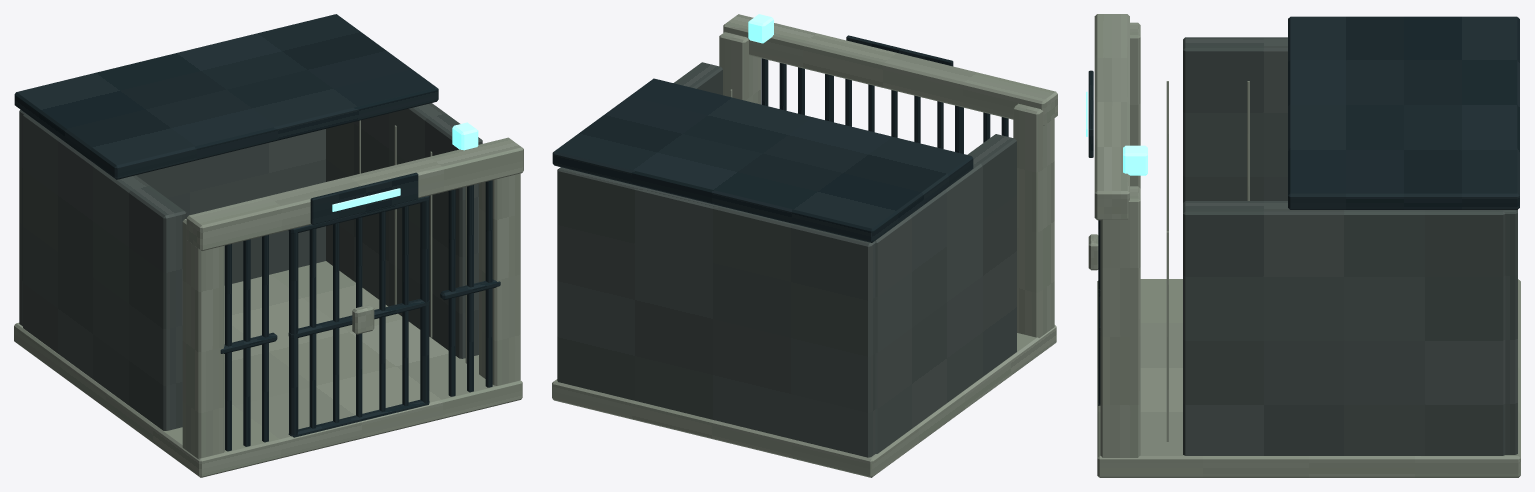
File: prisonHouse.glb
3 views of the same model, side by side, from view 1: azimuth 30°, elevation 25°; view 2: azimuth 150°, elevation 25°; view 3: azimuth 270°, elevation 25° (orthographic). The views are drawn at different scales.
Visible parts, largest first — view 1: Partial roof, Side masonry, Slab foundation, Side masonry.001, Rear masonry, Door lintel, Door jamb, Door jamb.001, Rescue sign, Sliding gate frame, Sliding gate frame.001, Fixed cell bar.001 (+16 smaller); view 2: Rear masonry, Partial roof, Side masonry, Door lintel, Slab foundation, Door jamb, Door jamb.001, Side masonry.001, Rescue sign, Rescue beacon; view 3: Side masonry.001, Partial roof, Slab foundation, Side masonry, Door jamb.001, Door lintel, Rear masonry, Door jamb, Rescue beacon, Mortar seam.004, Rescue sign, Sliding gate frame.001.
Part boxes in pixels (bbox=[...]): Partial roof: bbox=[14, 14, 438, 179]; Side masonry: bbox=[23, 113, 186, 430]; Slab foundation: bbox=[14, 261, 522, 477]; Side masonry.001: bbox=[326, 103, 482, 358]; Rear masonry: bbox=[19, 109, 325, 326]; Door lintel: bbox=[186, 137, 523, 250]; Door jamb: bbox=[182, 219, 224, 458]; Door jamb.001: bbox=[479, 173, 520, 385]; Rescue sign: bbox=[310, 172, 418, 224]; Sliding gate frame: bbox=[289, 228, 298, 436]; Sliding gate frame.001: bbox=[420, 196, 429, 403]; Fixed cell bar.001: bbox=[243, 239, 250, 446]; Rear masonry: bbox=[557, 167, 875, 457]; Partial roof: bbox=[552, 78, 973, 242]; Side masonry: bbox=[874, 134, 1016, 453]; Door lintel: bbox=[723, 14, 1057, 125]; Slab foundation: bbox=[552, 325, 1056, 477]; Door jamb: bbox=[1013, 103, 1054, 337]; Door jamb.001: bbox=[719, 32, 760, 104]; Side masonry.001: bbox=[673, 62, 722, 95]; Rescue sign: bbox=[846, 35, 953, 66]; Rescue beacon: bbox=[748, 14, 773, 43]; Side masonry.001: bbox=[1183, 201, 1505, 455]; Partial roof: bbox=[1288, 16, 1519, 209]; Slab foundation: bbox=[1097, 279, 1520, 477]; Side masonry: bbox=[1183, 37, 1287, 202]; Door jamb.001: bbox=[1100, 186, 1140, 457]; Door lintel: bbox=[1094, 14, 1129, 220]; Rear masonry: bbox=[1496, 210, 1517, 454]; Door jamb: bbox=[1130, 22, 1140, 188]; Rescue beacon: bbox=[1123, 145, 1147, 175]; Mortar seam.004: bbox=[1166, 231, 1168, 441]; Rescue sign: bbox=[1088, 70, 1093, 157]; Sliding gate frame.001: bbox=[1098, 220, 1100, 403].
Size of the model in its own units: 4.2 by 3.36 by 4.31.
4 materials, 3 textured.
